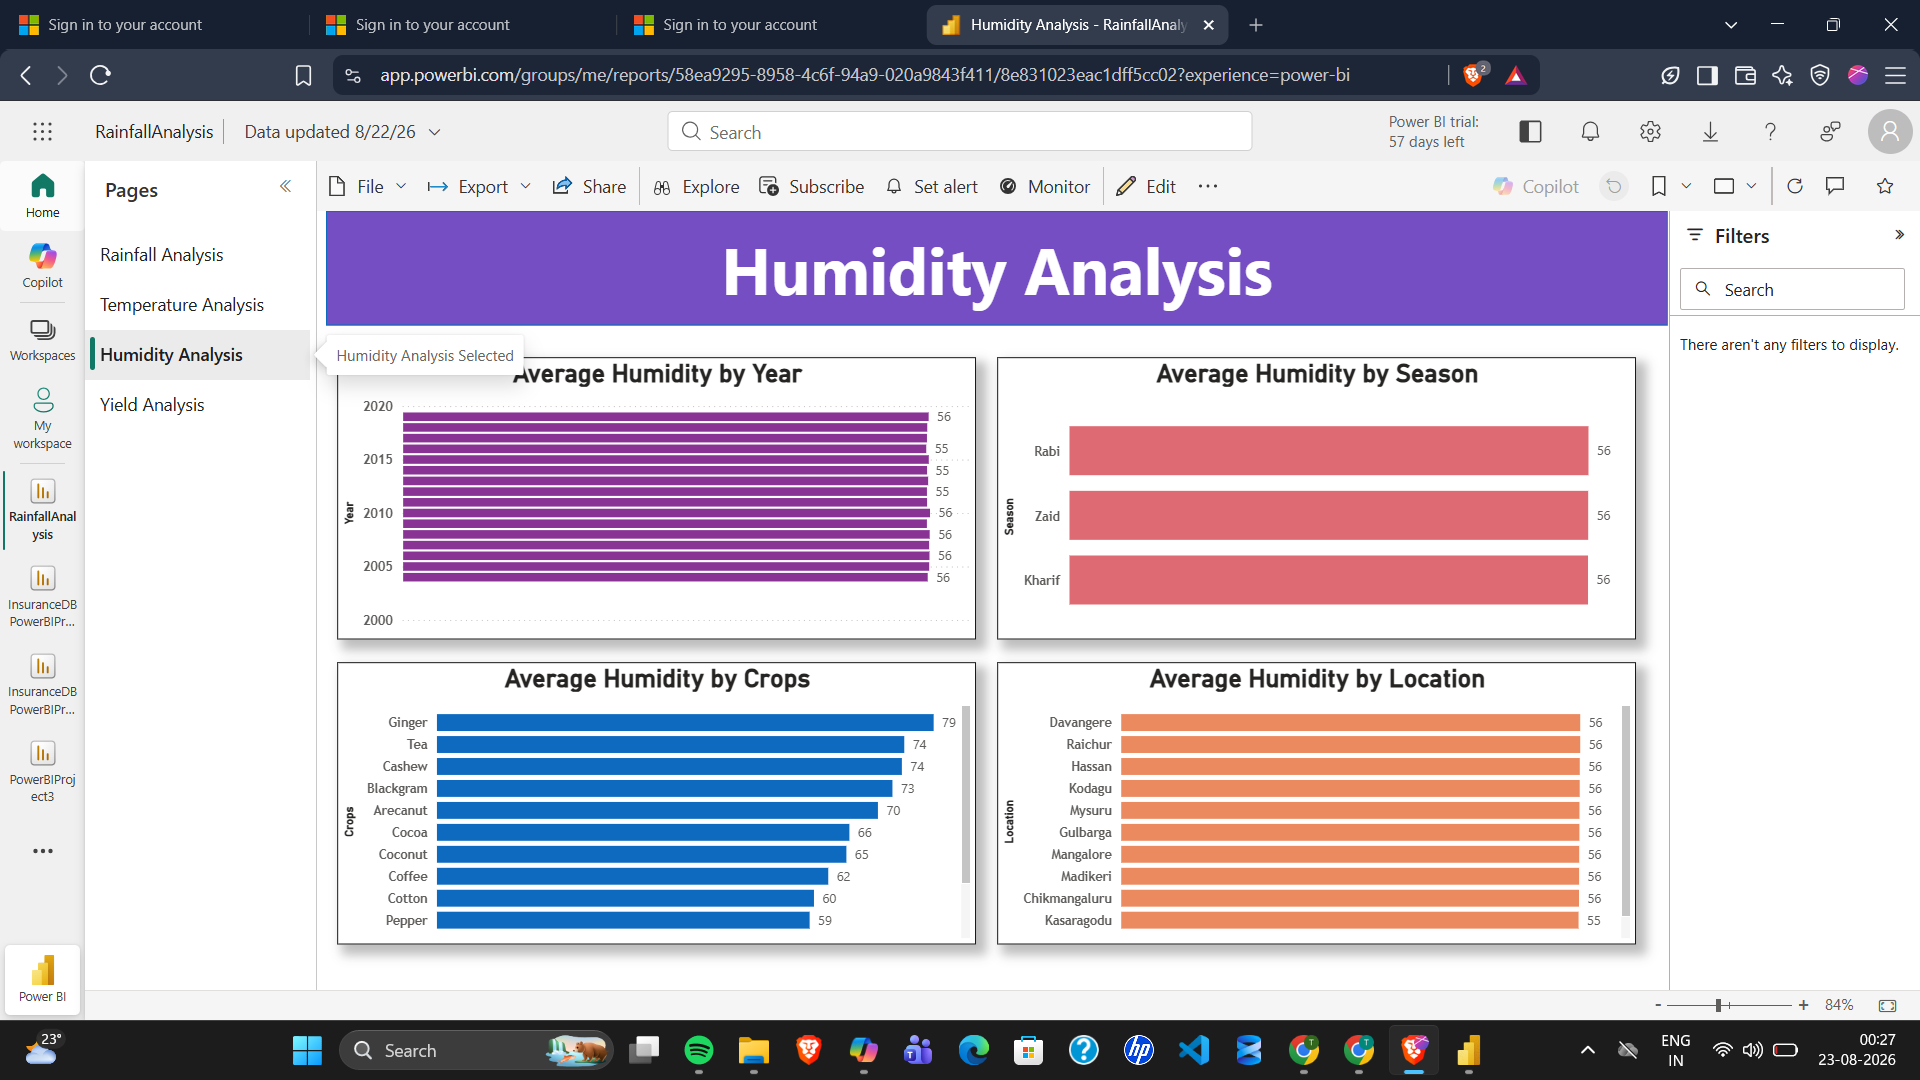

This screenshot's page, from the dashboard's own definition file:
{"tool":"powerbi","page":{"name":"Humidity Analysis","canvas":[1280,720],"ordinal":2},"visuals":[{"type":"shape","box":[9.6,0,1270.7,108.4],"z":0},{"type":"barChart","fields":{"Y":["Avg(AGRICULTURE.HUMIDITY)"],"Category":["AGRICULTURE.YEAR"]},"box":[20.6,138.6,605.1,267.6],"z":1000},{"type":"barChart","fields":{"Category":["AGRICULTURE.SEASON"],"Y":["Avg(AGRICULTURE.HUMIDITY)"]},"box":[644.9,138.6,605.1,267.6],"z":2000},{"type":"barChart","fields":{"Category":["AGRICULTURE.CROPS"],"Y":["Avg(AGRICULTURE.TEMPERATURE)"]},"box":[20.6,426.8,605.1,267.6],"z":3000},{"type":"barChart","fields":{"Category":["AGRICULTURE.LOCATION"],"Y":["Avg(AGRICULTURE.HUMIDITY)"]},"box":[644.9,426.8,605.1,267.6],"z":4000}]}

Visuals, with their boxes on the page's 1280x720 design canvas (x1, y1, x2, y2). These are canvas units, not pixel positions in the 1920x1080 screenshot, which may show the page scaled, cropped or inside an application window:
shape: [10, 0, 1280, 108]
barChart - Avg(AGRICULTURE.HUMIDITY) x AGRICULTURE.YEAR: [21, 139, 626, 406]
barChart - AGRICULTURE.SEASON x Avg(AGRICULTURE.HUMIDITY): [645, 139, 1250, 406]
barChart - AGRICULTURE.CROPS x Avg(AGRICULTURE.TEMPERATURE): [21, 427, 626, 694]
barChart - AGRICULTURE.LOCATION x Avg(AGRICULTURE.HUMIDITY): [645, 427, 1250, 694]
